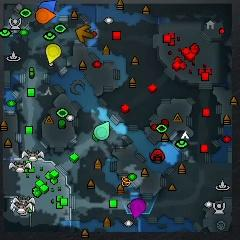p1: (39, 0, 57, 13)
p2: (94, 121, 110, 140)
p3: (130, 198, 145, 218)
p4: (46, 44, 61, 63)
p5: (36, 8, 56, 24)
x5: (76, 25, 94, 42)
